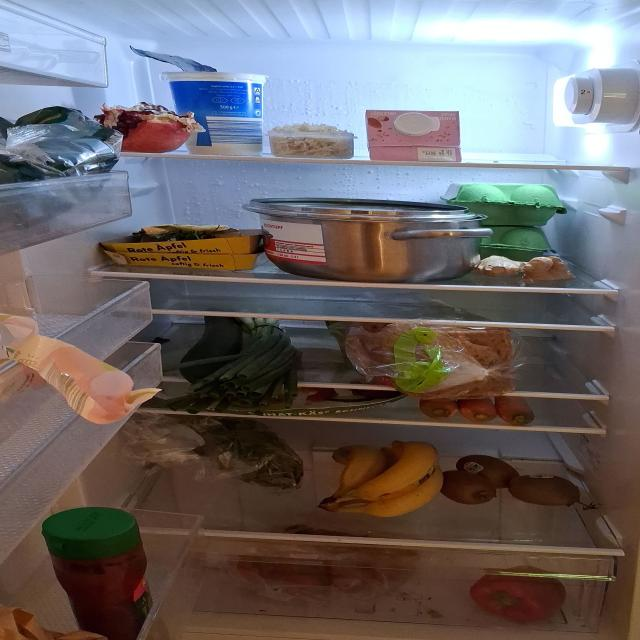Banana: (319, 440, 444, 516)
Cheese: (269, 122, 357, 159)
Eggs: (448, 182, 560, 258)
Ginger: (476, 255, 576, 282)
Milk: (359, 107, 466, 167)
Paper box: (102, 225, 260, 270)
Plastic bag: (3, 256, 147, 423), (0, 107, 123, 221)
Pot: (250, 196, 486, 281)
Spring onion: (179, 307, 298, 409)
Vegetable: (244, 524, 416, 602)
Yogurt: (159, 70, 268, 155)
bell pepper: (471, 565, 567, 623)
bread: (338, 292, 512, 390)
carrots: (416, 386, 550, 428)
ketchup: (36, 508, 166, 639)
kiwi: (442, 454, 580, 506)
pomogranate: (93, 96, 206, 159)
